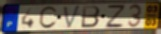3: (127, 3, 144, 29)
4: (21, 6, 37, 30)
B: (80, 5, 102, 29)
C: (38, 5, 59, 30)
V: (62, 4, 82, 30)
Z: (105, 4, 126, 29)
